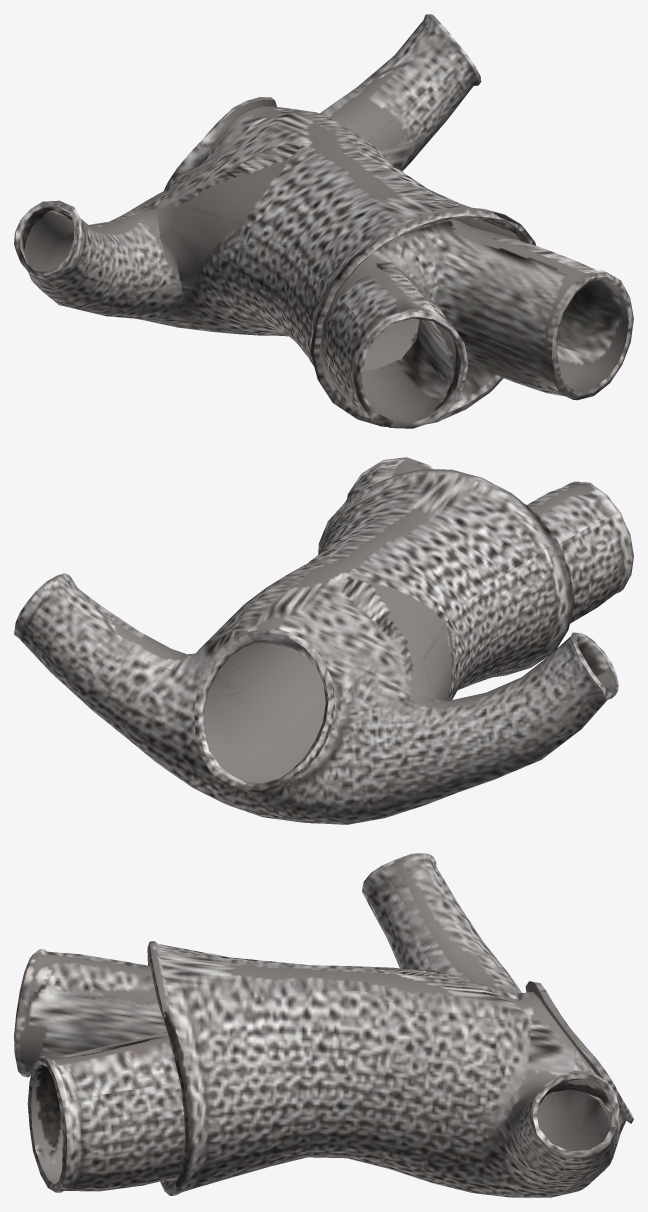
The model's file is item_mm9_10103.glb.
The picture shows the model from 3 angles, top to bottom: view 1: azimuth 30°, elevation 25°; view 2: azimuth 150°, elevation 25°; view 3: azimuth 270°, elevation 25°; orthographic projection. The views are drawn at different scales.
Visible parts, largest first — view 1: d10103; view 2: d10103; view 3: d10103.
Part boxes in pixels (bbox=[...]): d10103: bbox=[14, 14, 633, 428]; d10103: bbox=[14, 457, 633, 824]; d10103: bbox=[14, 853, 633, 1197].
Bounding box in the file's own units: 0.9921 × 0.4071 × 0.9881.
Materials: 1 (1 with a texture image).
